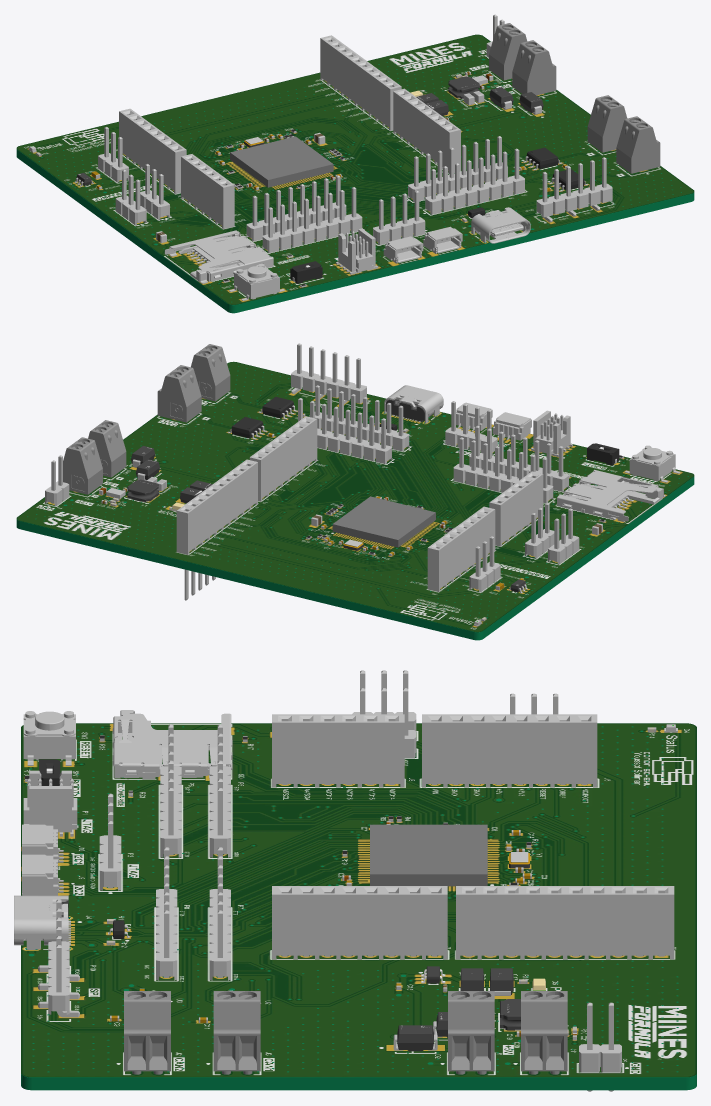
The model's file is stm-devboard.glb.
3 views of the same model, one above another, from view 1: azimuth 30°, elevation 25°; view 2: azimuth 150°, elevation 25°; view 3: azimuth 270°, elevation 25° (orthographic). The views are drawn at different scales.
Visible parts, largest first — view 1: 0.000,0.240,0.080, board-top; view 2: 0.000,0.240,0.080, board-top; view 3: board-top, 0.000,0.240,0.080.
Boxes of the visible parts, box(x1,y1,x2,y2) form: 0.000,0.240,0.080: box(16, 14, 694, 313); board-top: box(16, 34, 694, 304); 0.000,0.240,0.080: box(16, 343, 694, 640); board-top: box(16, 361, 694, 632); board-top: box(21, 723, 696, 1077); 0.000,0.240,0.080: box(14, 670, 696, 1091).
Bounding box in the file's own units: 0.0995 × 0.0193 × 0.0811.
3 materials, 3 textured.
